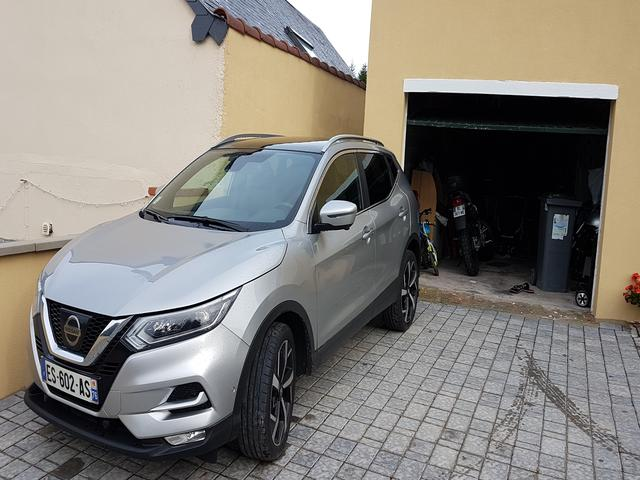Quashquai: (34, 358, 103, 407)
